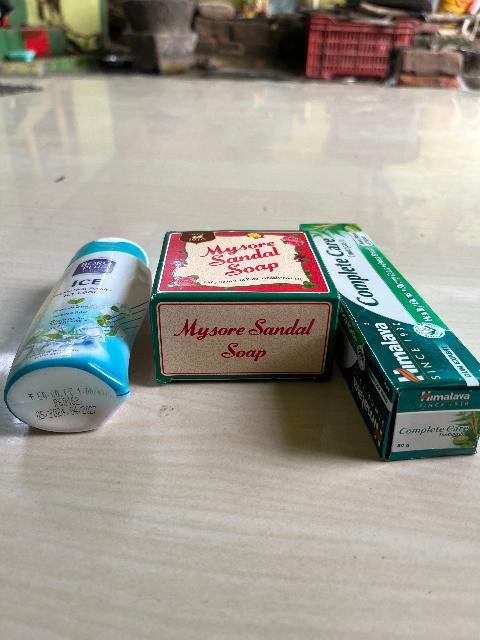boroplus: (11, 223, 143, 424)
himalaya toothpaste: (311, 219, 480, 456)
mysore sandal soap: (156, 226, 340, 372)
